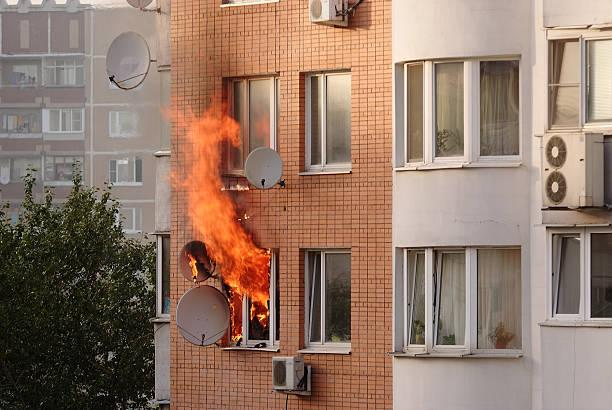Fire: (181, 98, 266, 338)
